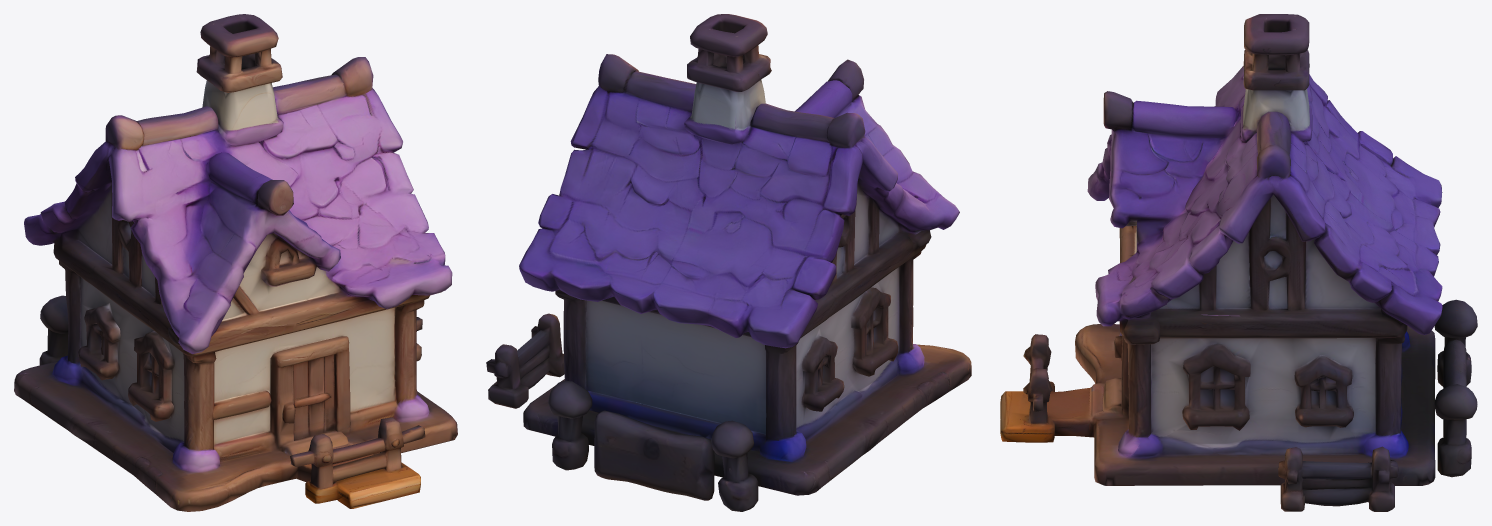
File: wohnhaus_klein.glb
3 views of the same model, side by side, from view 1: azimuth 30°, elevation 25°; view 2: azimuth 150°, elevation 25°; view 3: azimuth 270°, elevation 25° (orthographic). The views are drawn at different scales.
Visible parts, largest first — view 1: tripo_node_b60c4c2f-00e3-44a2-b907-30eacc519781; view 2: tripo_node_b60c4c2f-00e3-44a2-b907-30eacc519781; view 3: tripo_node_b60c4c2f-00e3-44a2-b907-30eacc519781.
Part boxes in pixels (bbox=[...]): tripo_node_b60c4c2f-00e3-44a2-b907-30eacc519781: bbox=[14, 14, 457, 511]; tripo_node_b60c4c2f-00e3-44a2-b907-30eacc519781: bbox=[486, 14, 971, 511]; tripo_node_b60c4c2f-00e3-44a2-b907-30eacc519781: bbox=[1000, 14, 1477, 511].
Size of the model in its own units: 0.8608 by 0.9548 by 1.
Materials: 1 (1 with a texture image).
